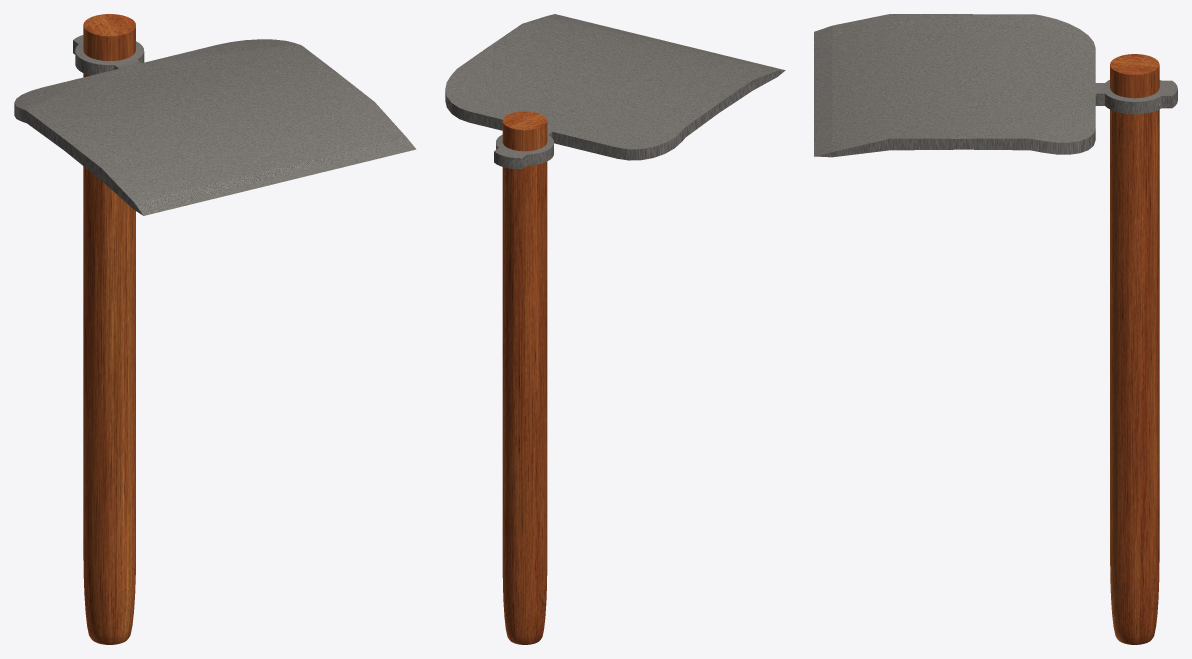
Rendered from Azada_Texturizado.fbx.
The picture shows the model from 3 angles, left to right: view 1: azimuth 30°, elevation 25°; view 2: azimuth 150°, elevation 25°; view 3: azimuth 270°, elevation 25°; orthographic projection. The views are drawn at different scales.
Parts seen in each view (by area): view 1: Cylinder; view 2: Cylinder; view 3: Cylinder.
Boxes of the visible parts, left/top/right/bottom form: Cylinder: left=14, top=14, right=416, bottom=644; Cylinder: left=445, top=14, right=785, bottom=644; Cylinder: left=814, top=14, right=1177, bottom=644.
Bounding box in the file's own units: 202 × 429 × 247.
Materials: 1 (1 with a texture image).
